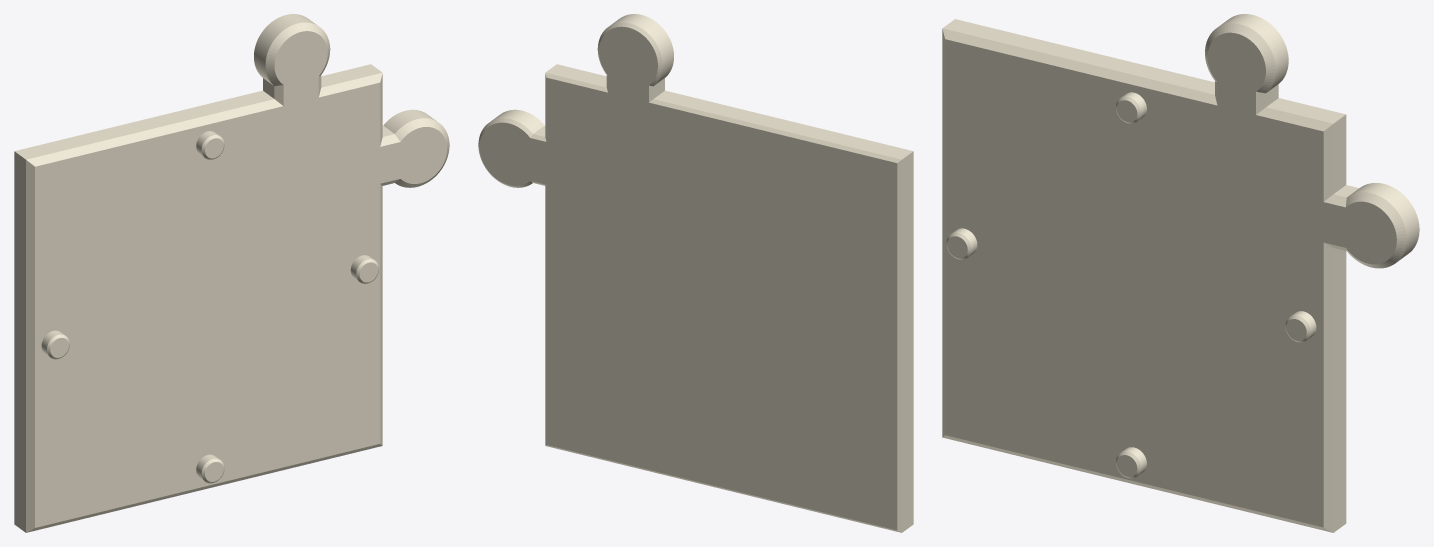
The model's file is tile-corner-sw@ivory.glb.
3 renders of one model, left to right at view 1: azimuth 30°, elevation 25°; view 2: azimuth 150°, elevation 25°; view 3: azimuth 330°, elevation 25°, orthographic. The views are drawn at different scales.
Parts seen in each view (by area): view 1: geometry_0; view 2: geometry_0; view 3: geometry_0.
Part boxes in pixels (<box>): geometry_0: <box>14,14,449,532</box>; geometry_0: <box>478,14,913,532</box>; geometry_0: <box>942,14,1419,532</box>.
Bounding box in the file's own units: 58.9 × 58.9 × 5.6.
